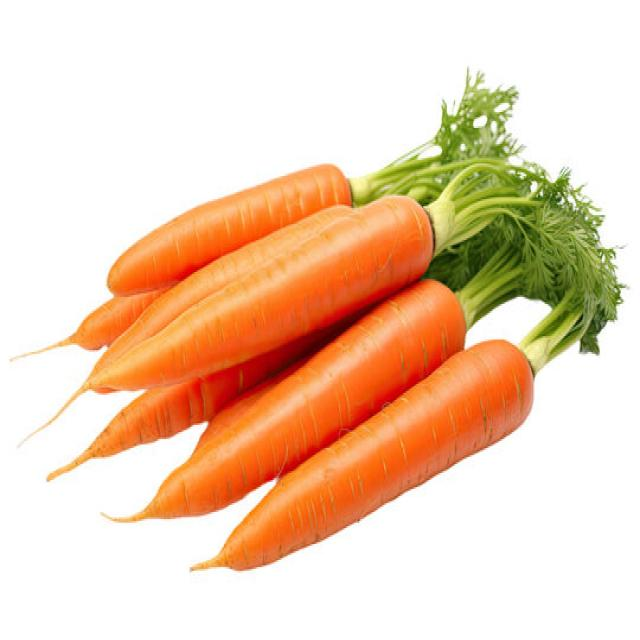Carrot: (15, 188, 438, 450), (97, 276, 467, 524), (8, 162, 354, 362), (44, 350, 312, 482), (105, 160, 352, 297), (8, 281, 175, 363)
